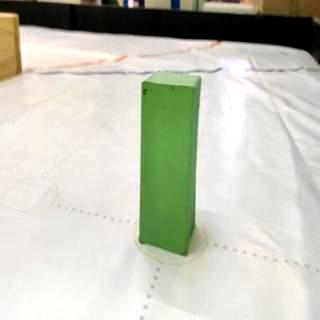greenbox: (138, 69, 202, 259)
